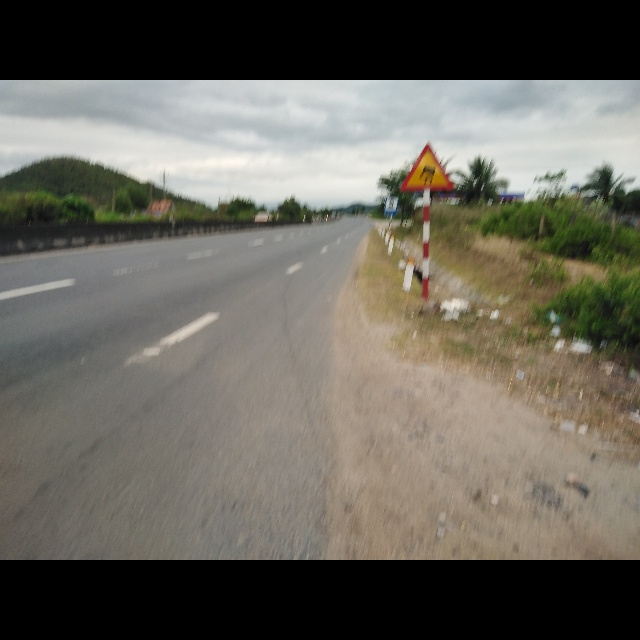Đường trơn trượt: (401, 142, 453, 191)
